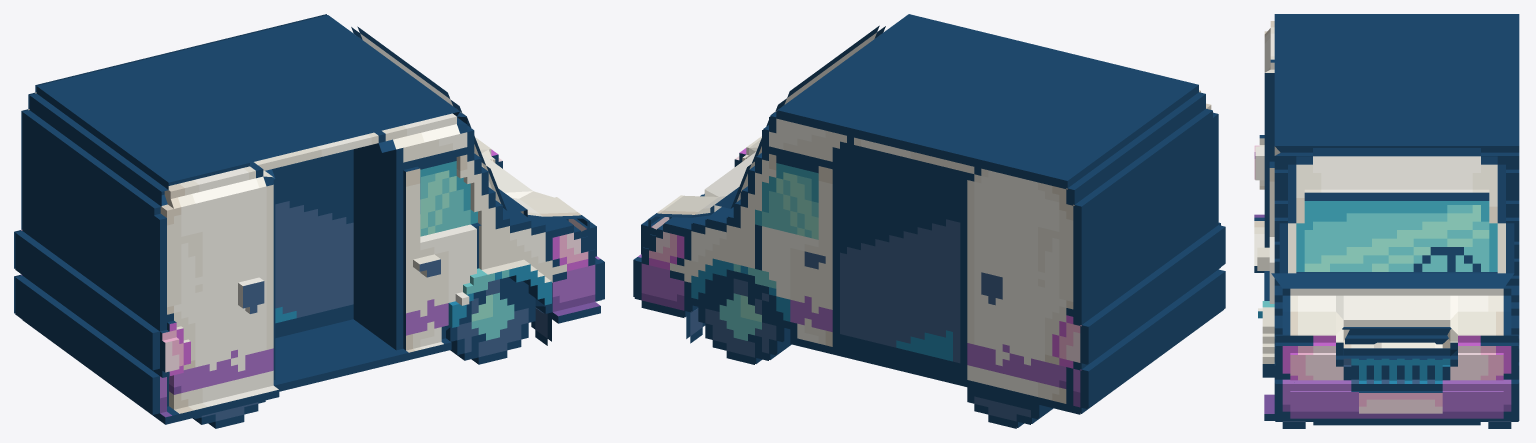
The model's file is camioneta_3d.fbx.
3 views of the same model, side by side, from view 1: azimuth 30°, elevation 25°; view 2: azimuth 150°, elevation 25°; view 3: azimuth 270°, elevation 25° (orthographic). The views are drawn at different scales.
Visible parts, largest first — view 1: camioneta_lado.png, camioneta_front.png, camioneta_lado.png.001; view 2: camioneta_lado.png.001, camioneta_lado.png, camioneta_front.png; view 3: camioneta_front.png, camioneta_lado.png.
Part boxes in pixels (x1,y1,x2,y2): camioneta_lado.png: (15, 15, 602, 428); camioneta_front.png: (351, 26, 604, 345); camioneta_lado.png.001: (14, 14, 326, 313); camioneta_lado.png.001: (634, 111, 1087, 428); camioneta_lado.png: (636, 14, 1225, 427); camioneta_front.png: (633, 25, 885, 343); camioneta_front.png: (1271, 148, 1518, 428); camioneta_lado.png: (1254, 14, 1519, 420).
Bounding box in the file's own units: 3254 × 1764 × 1759.
